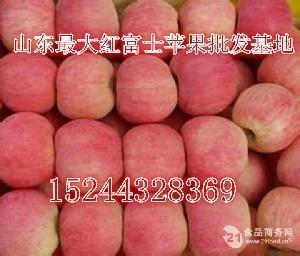apple: (52, 118, 124, 186), (231, 83, 298, 152), (183, 114, 249, 184), (170, 49, 240, 115), (114, 53, 177, 126), (186, 188, 252, 253), (121, 194, 190, 255), (1, 113, 54, 188), (58, 195, 122, 256), (56, 55, 116, 120), (1, 190, 60, 256), (123, 123, 186, 183), (1, 52, 56, 114), (120, 1, 177, 54), (56, 2, 119, 48), (256, 185, 299, 246), (1, 1, 56, 47), (235, 1, 293, 42), (177, 1, 237, 37)
